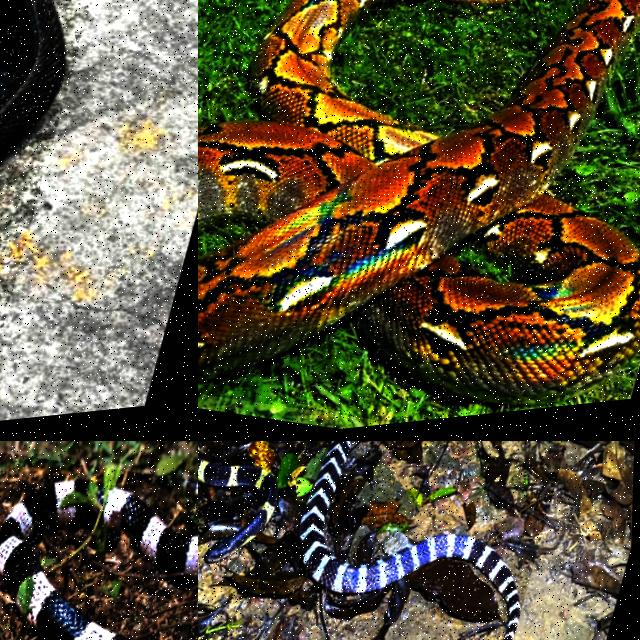Bungarus candidus: (0, 481, 129, 639)
Bungarus fasciatus: (299, 441, 519, 639)
Malayopython reticulatus: (198, 0, 639, 407)
Naja siamensis: (0, 0, 64, 159)
